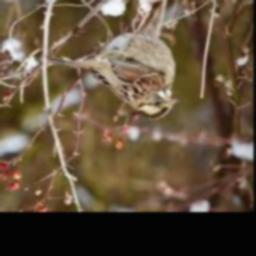Sparrow: (48, 20, 181, 119)
